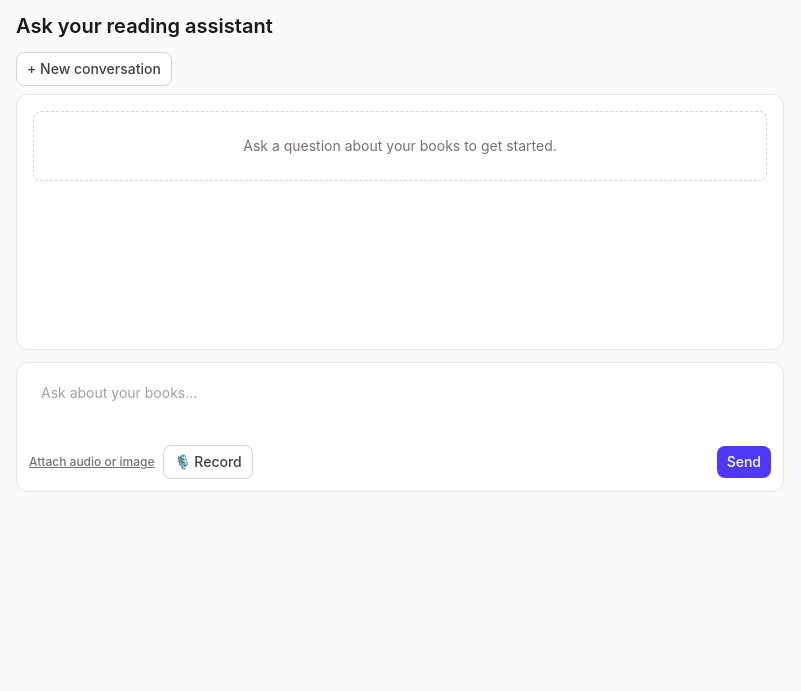
it: Chat › resolves a page-range-confirmation interrupt (FR-4.6)
Type "what's my progress?" into the text box named "message" at (400, 403), box [29,375,771,431]
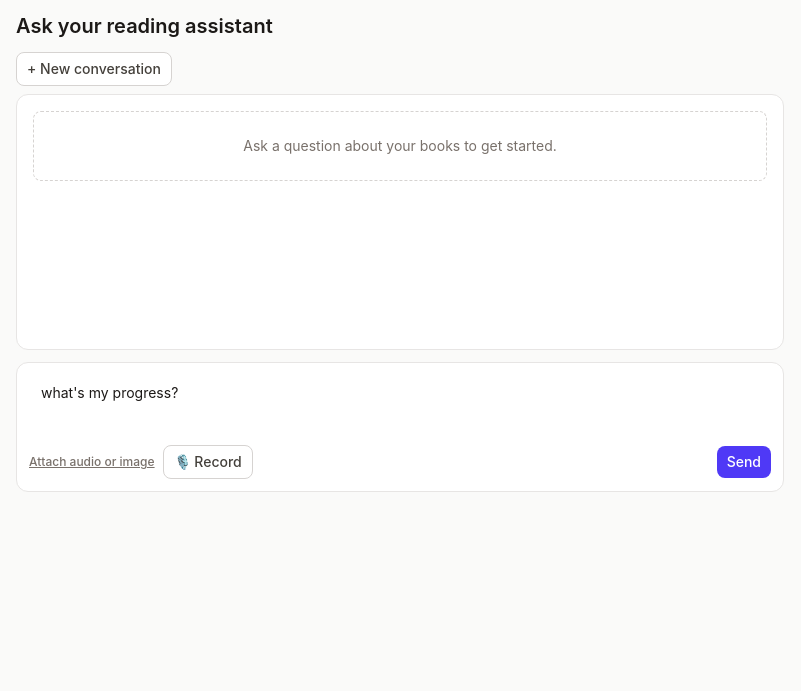
Click the button "Send" at (744, 462), box [717,446,771,478]
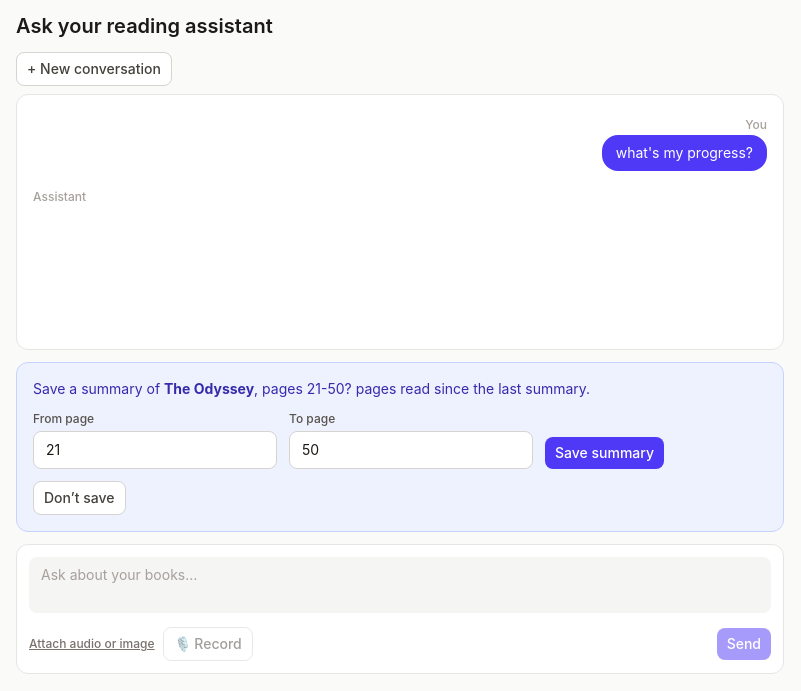
Result: the element named "confirm summary range" is shown at [16,362,784,532]
Result: the text "The Odyssey" is shown at [164,380,254,397]
Result: the text box named "message" is disabled at [29,557,771,613]
Click the button "Save summary" at (604, 453), box [545,437,664,469]
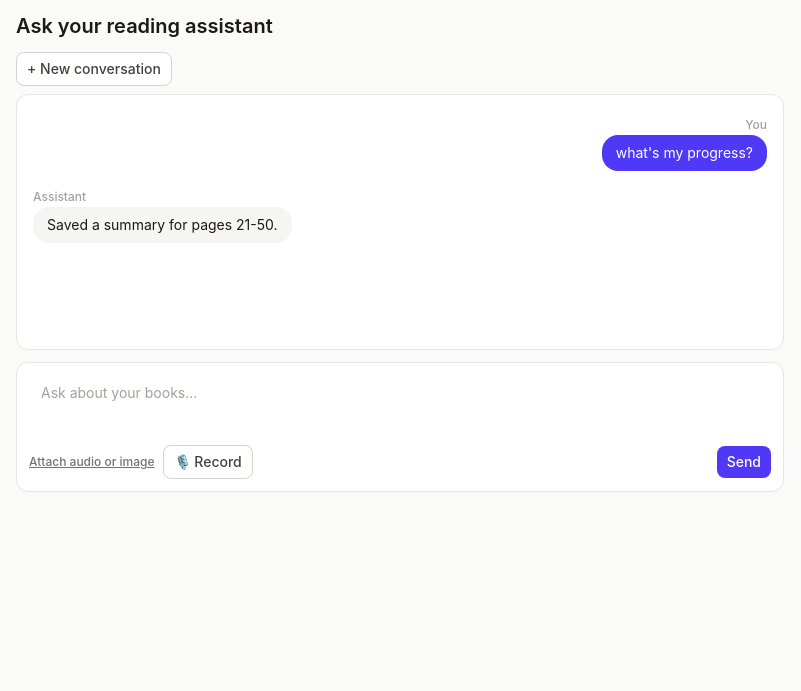
Result: the text "Saved a summary for pages 21-50." is shown at [47,216,278,233]
Result: the text box named "message" is enabled at [29,375,771,431]
